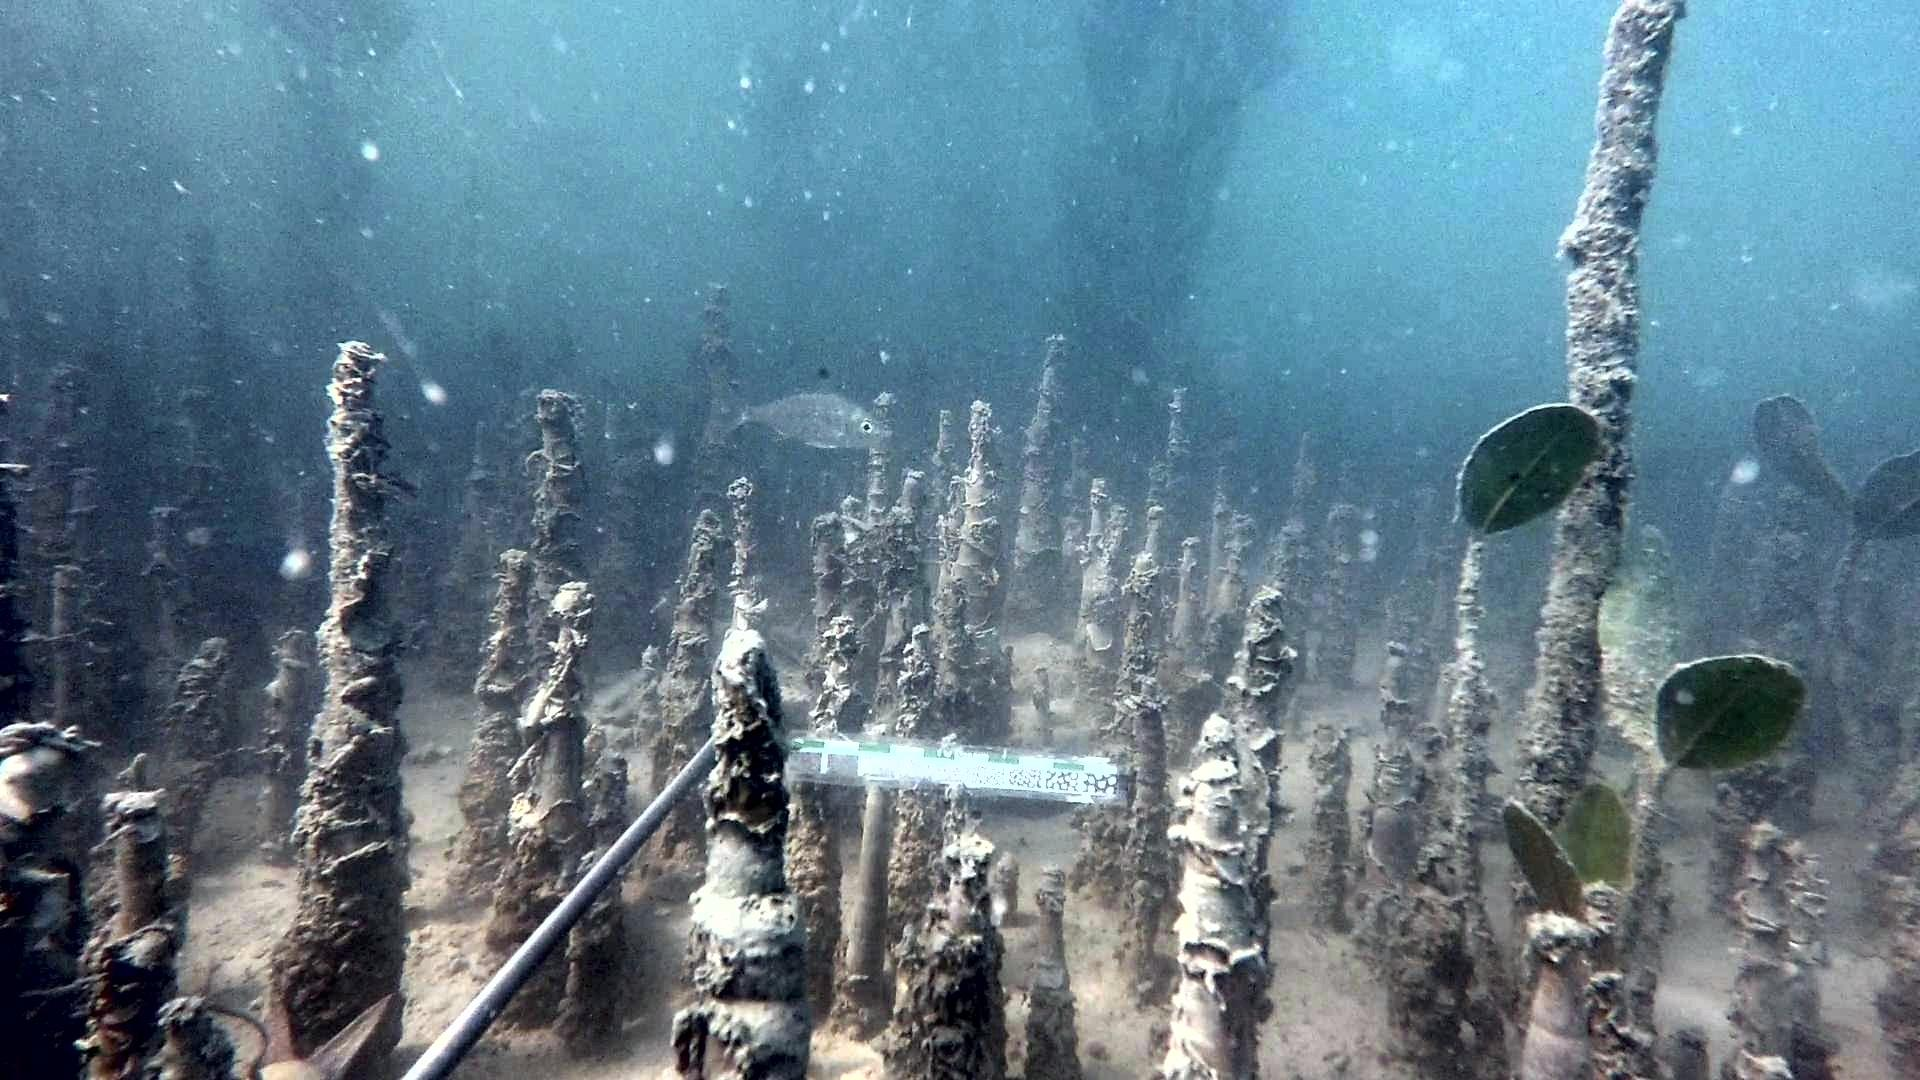gerres: (701, 365, 891, 452)
